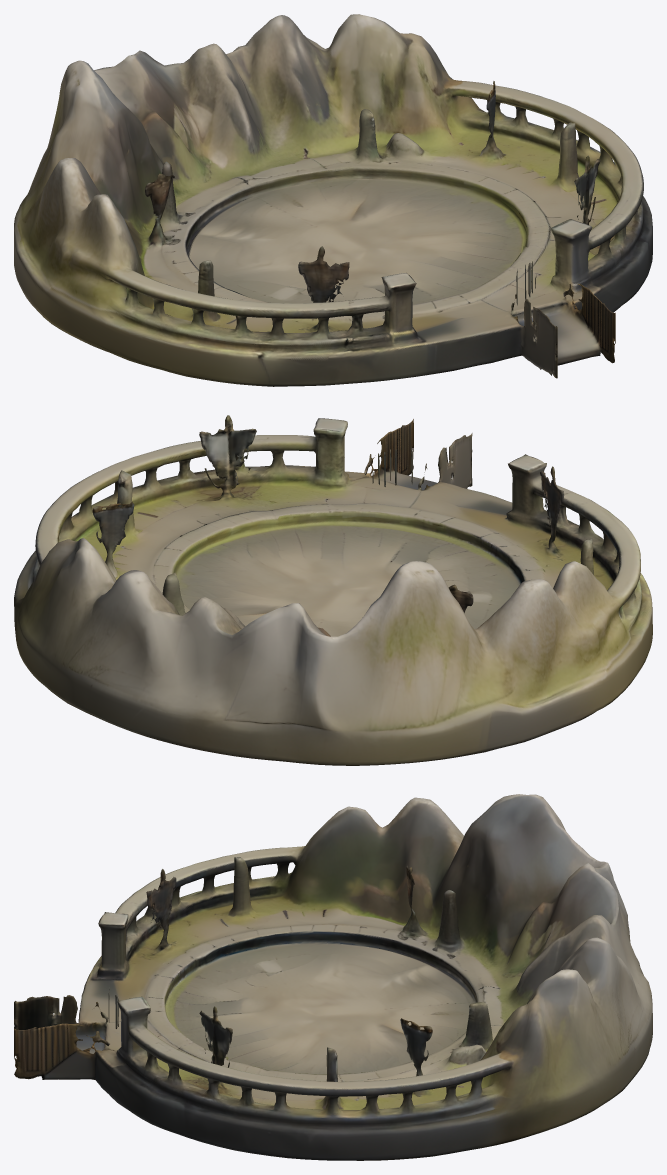
File: base_basic_pbr.fbx
The picture shows the model from 3 angles, top to bottom: view 1: azimuth 30°, elevation 25°; view 2: azimuth 150°, elevation 25°; view 3: azimuth 270°, elevation 25°; orthographic projection. The views are drawn at different scales.
Parts seen in each view (by area): view 1: model; view 2: model; view 3: model.
Boxes of the visible parts, bbox=[...] form: model: bbox=[14, 14, 652, 386]; model: bbox=[14, 415, 652, 765]; model: bbox=[14, 794, 652, 1160].
Size of the model in its own units: 178 by 52.21 by 186.
1 material, 1 textured.
